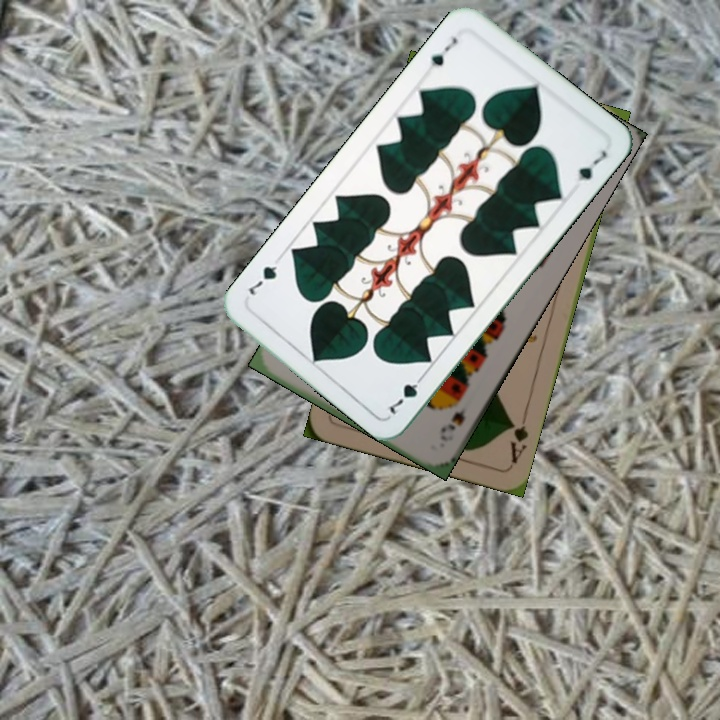G7: (383, 369, 429, 417), (427, 32, 461, 70)
GA: (505, 409, 531, 466)
S9: (436, 403, 469, 445)
